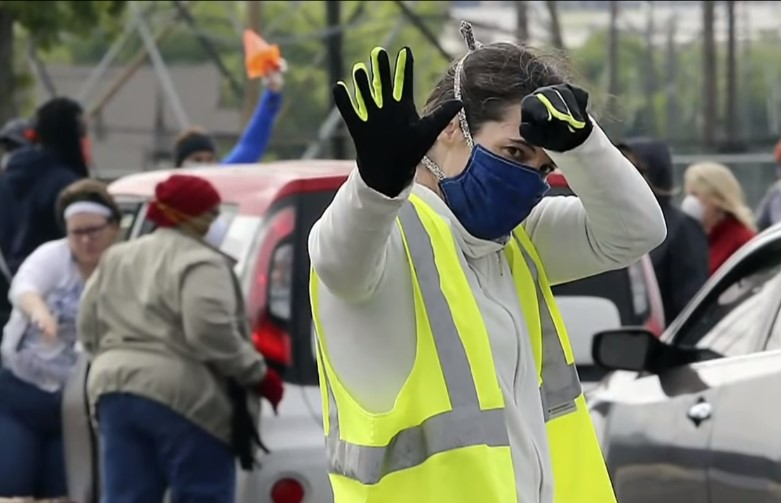face_no_mask: (59, 180, 121, 262)
face_with_mask: (419, 46, 572, 249), (147, 174, 228, 249), (679, 164, 742, 223)
